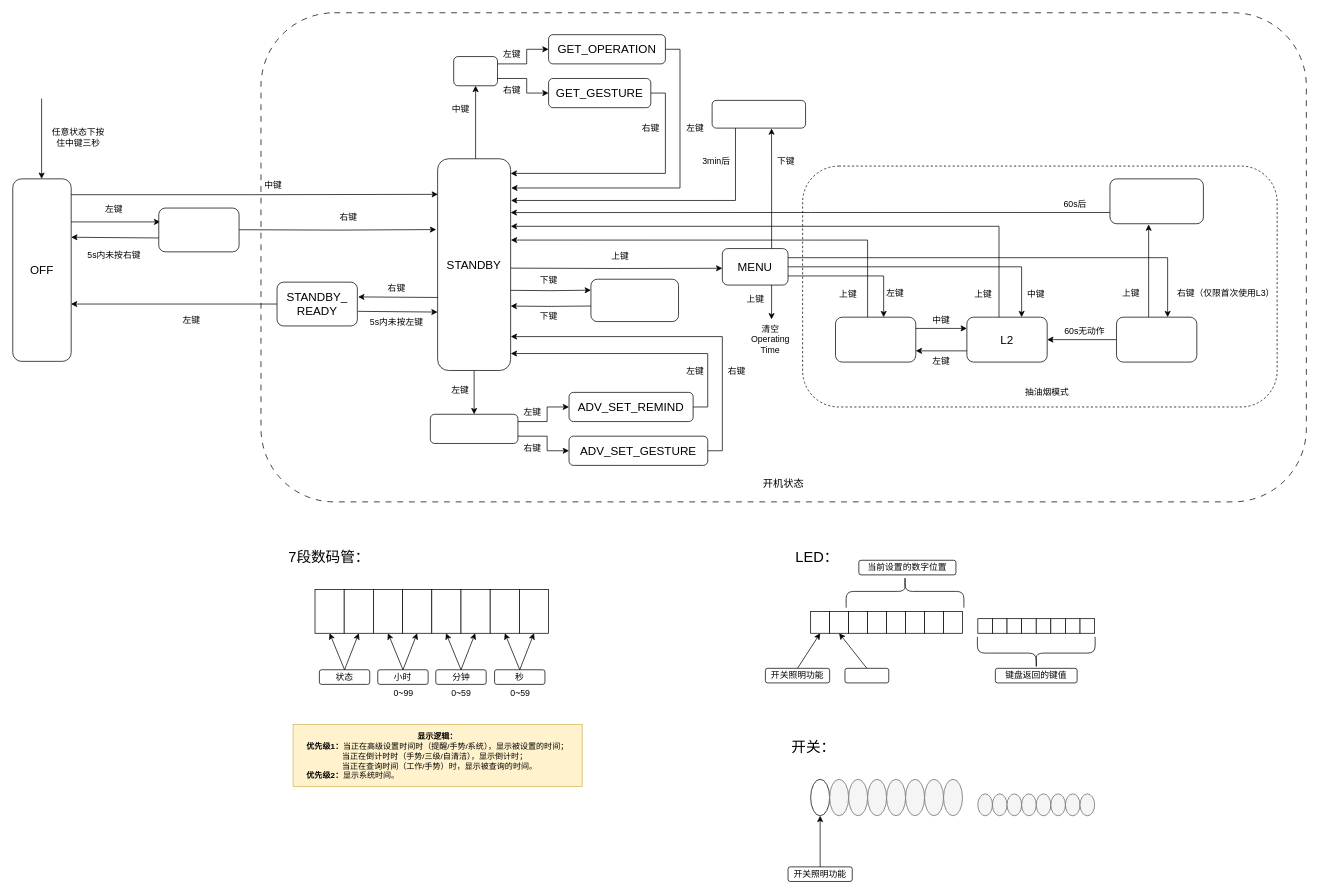
Some shapes in this 1319 by 894 pixel diagram are drawn without their labels. Each missing label, with the centre of its shape:
"ADV_SET" goes at pixel 474 428.
"GET" goes at pixel 475 71.
"L1" goes at pixel 875 339.
"L3" goes at pixel 1156 339.
"L3_FORCED" goes at pixel 1156 201.
"OFF_READY" goes at pixel 198 229.
"SELF_CLEAN" goes at pixel 758 114.
"SET_TIME" goes at pixel 634 300.
"智能提醒" goes at pixel 866 675.
